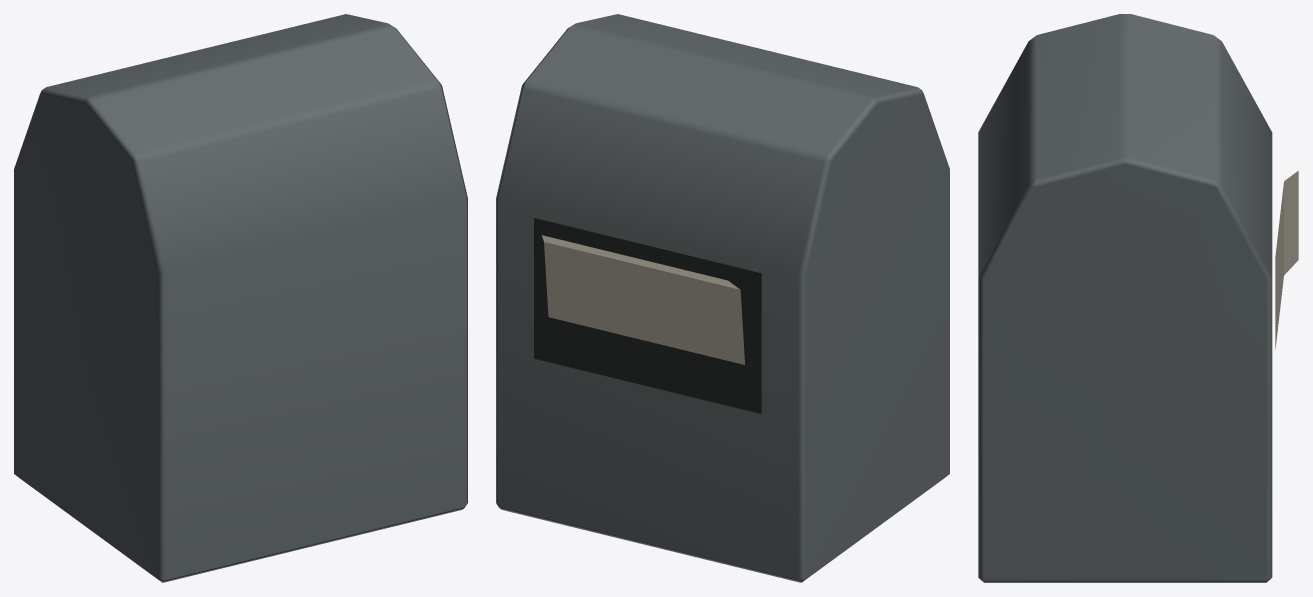
The model's file is Diner_Napkin_Dispenser.fbx.
3 renders of one model, left to right at view 1: azimuth 30°, elevation 25°; view 2: azimuth 150°, elevation 25°; view 3: azimuth 270°, elevation 25°, orthographic.
Visible parts, largest first — view 1: Diner_Napkin_Dispenser; view 2: Diner_Napkin_Dispenser; view 3: Diner_Napkin_Dispenser.
Part boxes in pixels (x1,y1,x2,y2): Diner_Napkin_Dispenser: (14,14,467,582); Diner_Napkin_Dispenser: (496,14,949,582); Diner_Napkin_Dispenser: (978,14,1298,582).
Bounding box in the file's own units: 0.12 × 0.1595 × 0.109.
